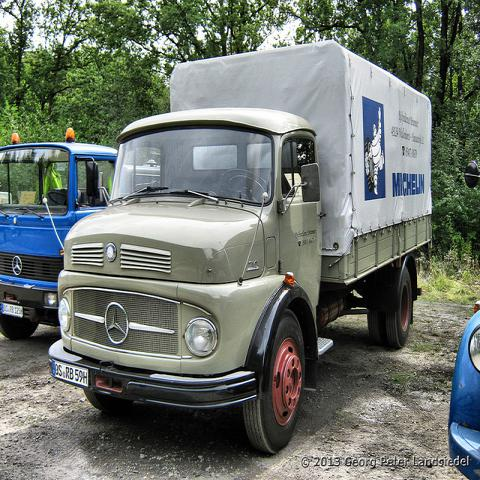car: (447, 301, 479, 479)
truck: (50, 43, 436, 454), (2, 127, 117, 339)
